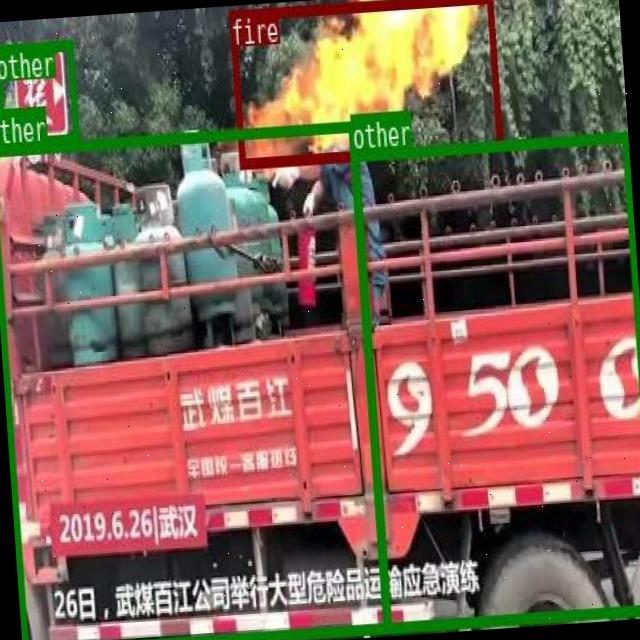fire: (228, 0, 500, 165)
